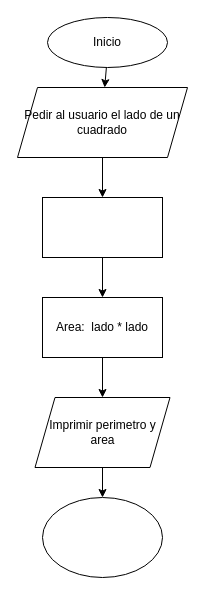
This 205x595 diagram has some shape labels left out. Here are the shapes that lost their labels. From the top down, the centre of each, then its label:
(x=102, y=227): Perimetro: lado * 4
(x=102, y=537): Fin
